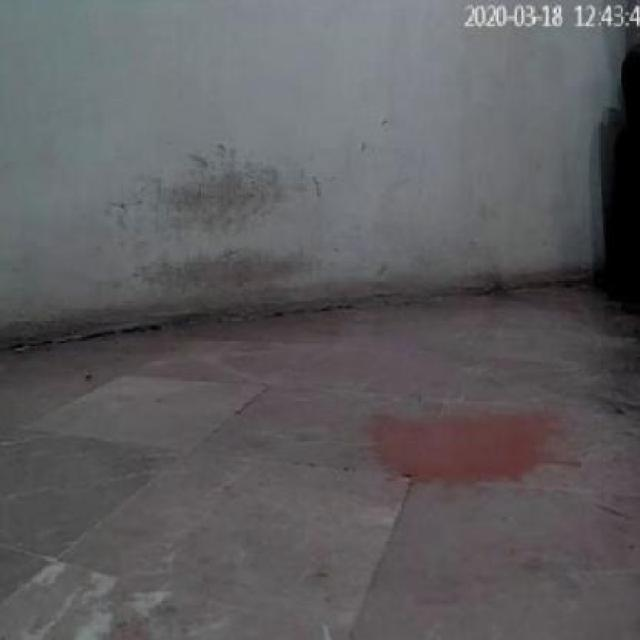spillage: (373, 414, 580, 483)
